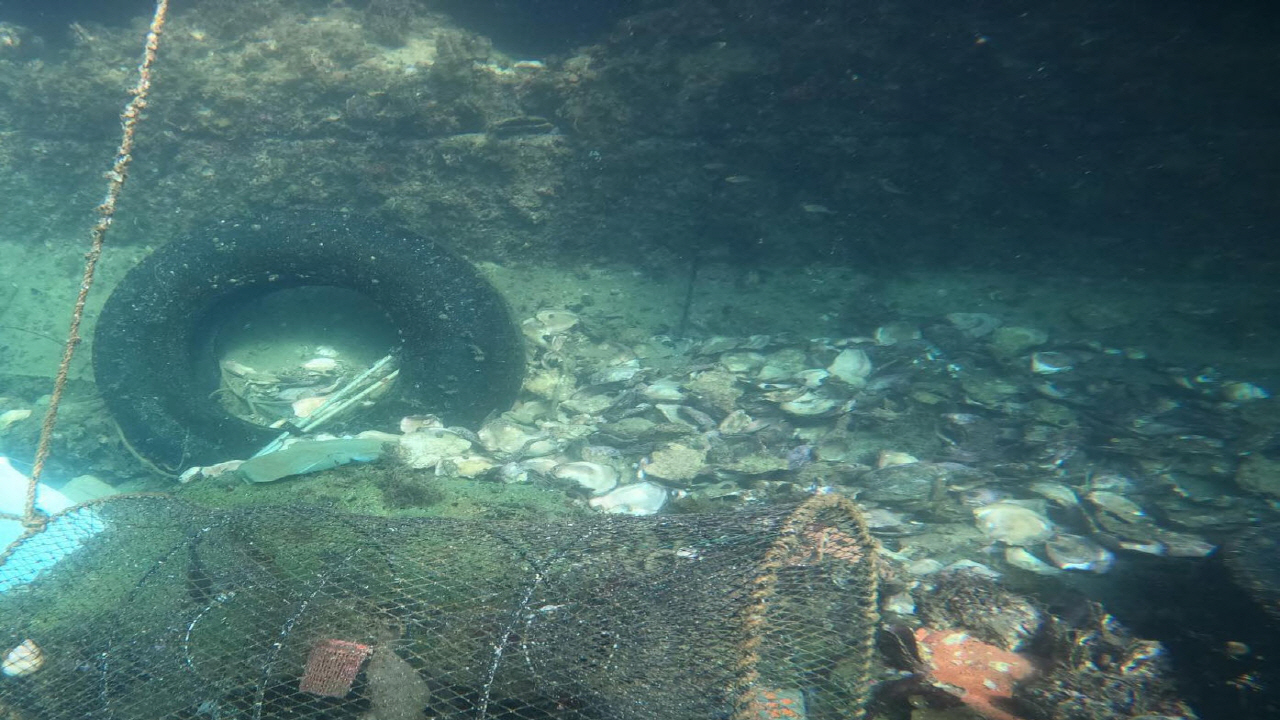bundle of ropes: (1, 1, 168, 526)
spring fish trap: (0, 487, 881, 720)
tire: (92, 214, 528, 483)
